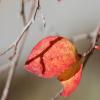Blueberry leaf: (24, 36, 78, 79)
